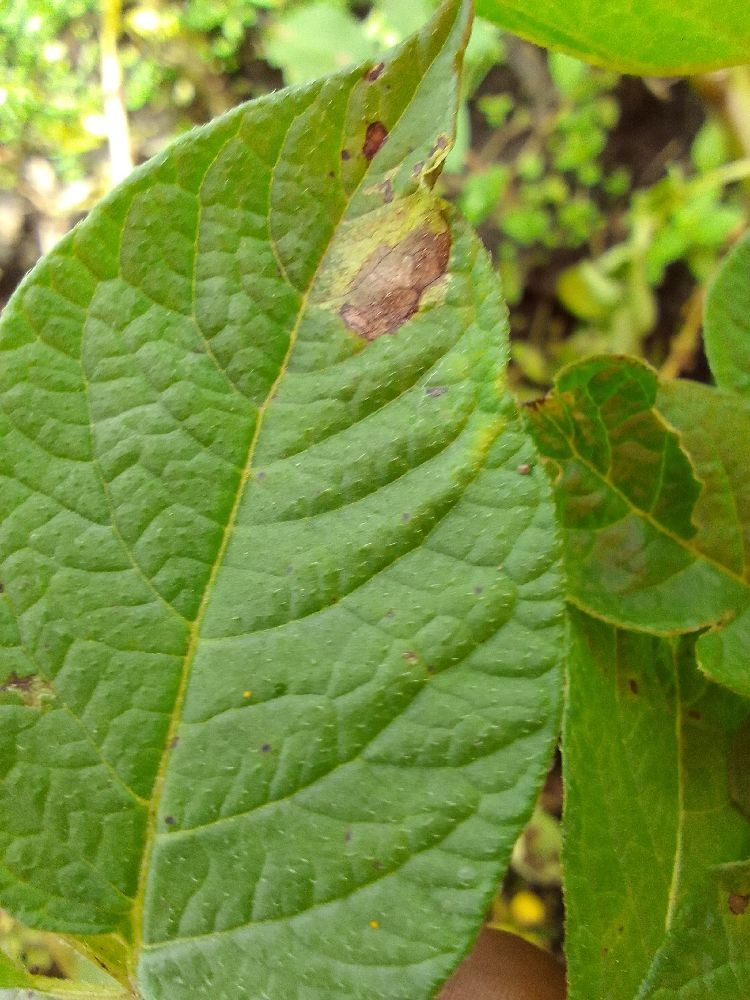late_blight: (305, 20, 749, 433), (544, 584, 750, 1000), (408, 804, 592, 1000), (643, 418, 750, 610)
